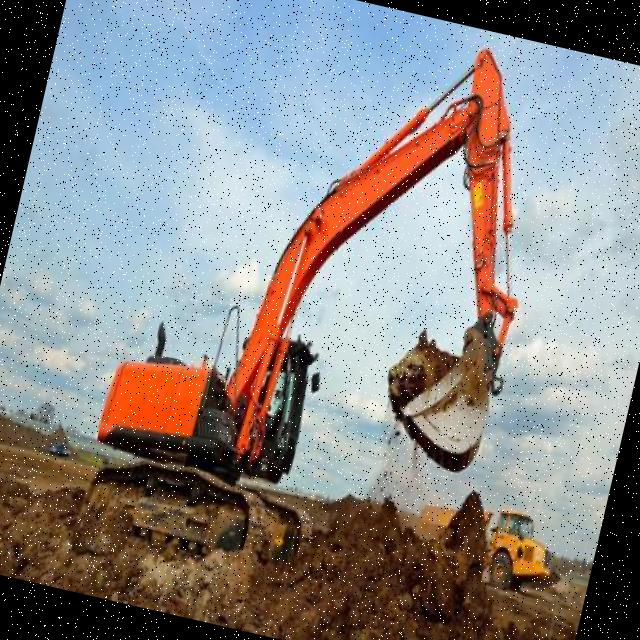Dump Truck: (400, 472, 566, 598)
Excavator: (68, 0, 571, 607)
